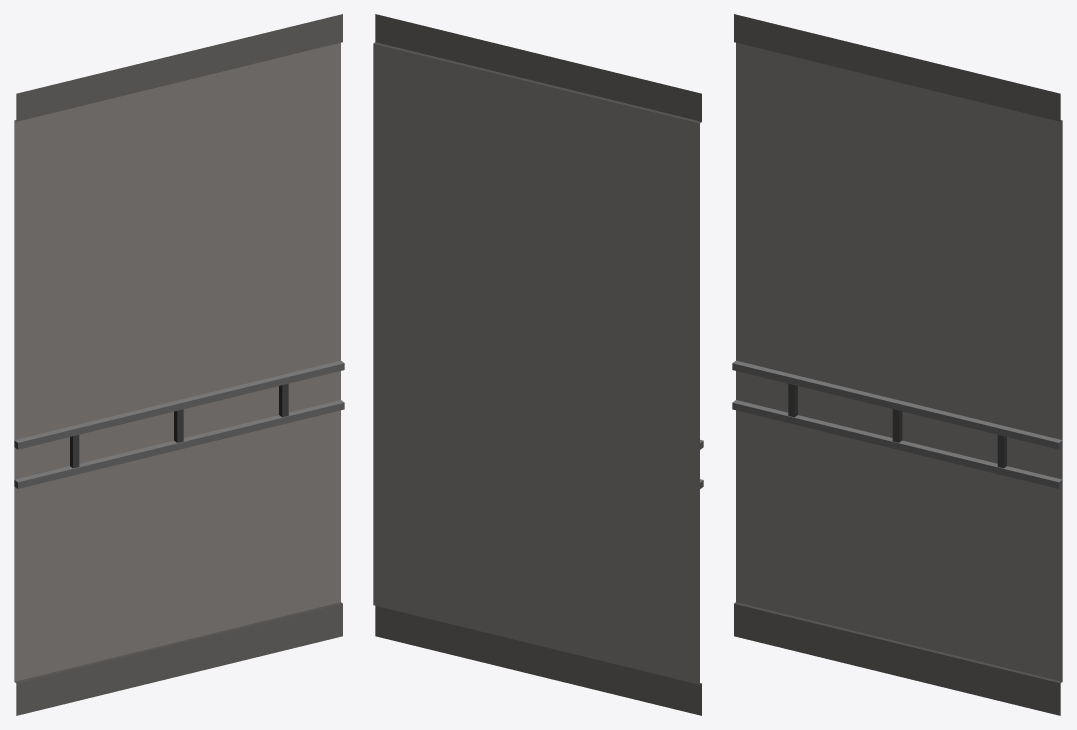
The model's file is AI_Env_Wall_Factory_Electronics_Straight.fbx.
The picture shows the model from 3 angles, left to right: view 1: azimuth 30°, elevation 25°; view 2: azimuth 150°, elevation 25°; view 3: azimuth 330°, elevation 25°; orthographic projection.
Parts seen in each view (by area): view 1: AI_Env_Wall_Factory_Electronics_Straight; view 2: AI_Env_Wall_Factory_Electronics_Straight; view 3: AI_Env_Wall_Factory_Electronics_Straight.
Boxes of the visible parts, x1,y1,x2,y2 form: AI_Env_Wall_Factory_Electronics_Straight: (14,14,344,715); AI_Env_Wall_Factory_Electronics_Straight: (373,14,703,715); AI_Env_Wall_Factory_Electronics_Straight: (732,14,1062,715).
Bounding box in the file's own units: 5 × 9.1 × 0.0984.
